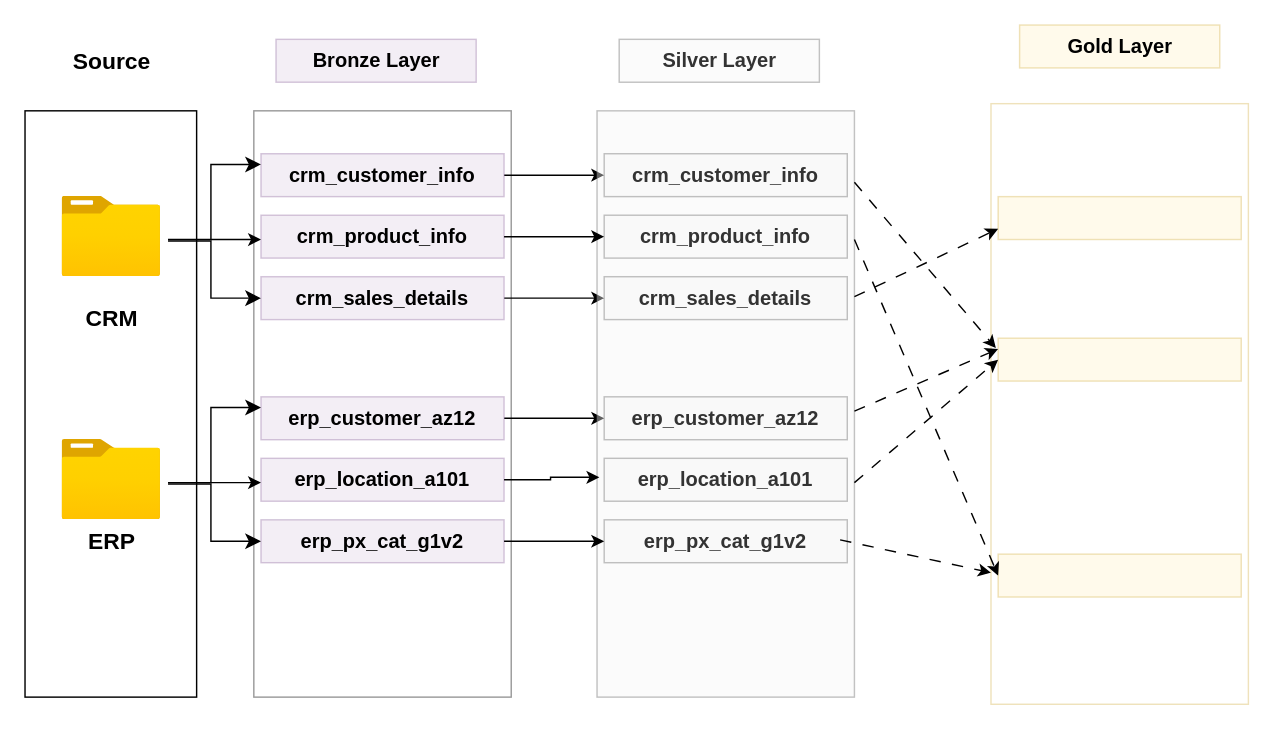
Some shapes in this 1274 by 729 pixel diagram are drawn without their labels. Here are the shapes that lost their labels. From the top down, the centre of each, then its label:
At point 1119,217: "fact_sales".
At point 1119,359: "dim_customers".
At point 1119,575: "dim_products".
